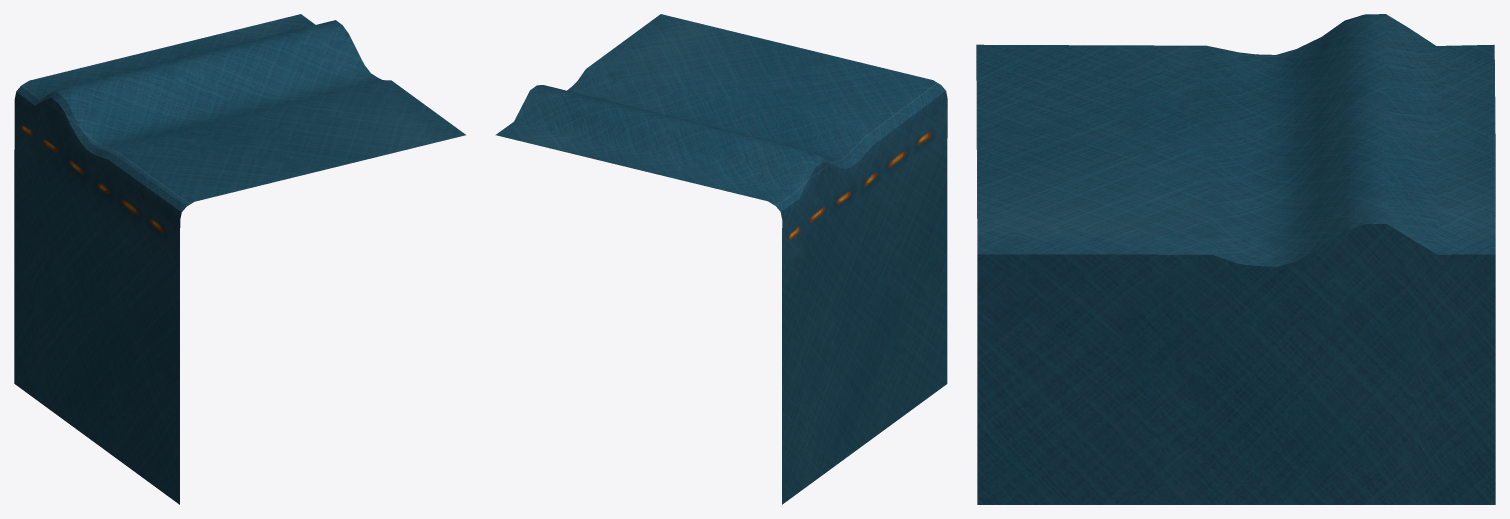
File: tl_jean_mid1.FBX
3 views of the same model, side by side, from view 1: azimuth 30°, elevation 25°; view 2: azimuth 150°, elevation 25°; view 3: azimuth 270°, elevation 25° (orthographic). The views are drawn at different scales.
Visible parts, largest first — view 1: tl_mid1; view 2: tl_mid1; view 3: tl_mid1.
Part boxes in pixels (box(x1,y1,x2,y2)): tl_mid1: box(14, 14, 465, 504); tl_mid1: box(495, 14, 947, 504); tl_mid1: box(976, 14, 1495, 504).
Bounding box in the file's own units: 100 × 106 × 100.
